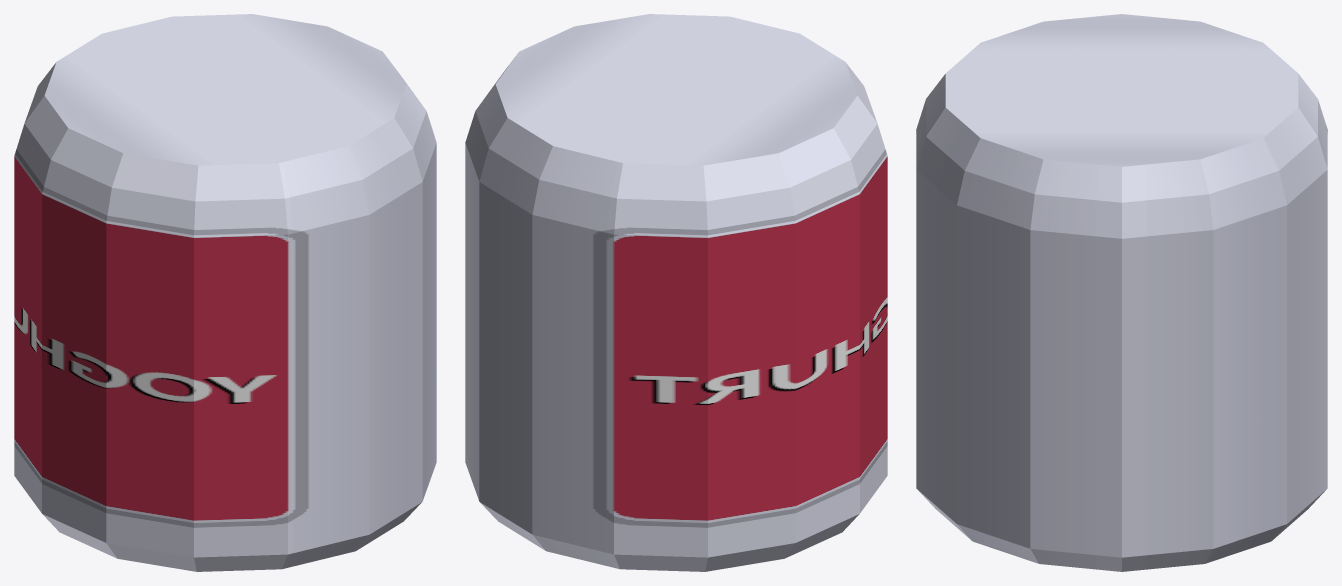
The model's file is fridge_yoghurt.obj.
3 renders of one model, left to right at view 1: azimuth 30°, elevation 25°; view 2: azimuth 150°, elevation 25°; view 3: azimuth 270°, elevation 25°, orthographic.
Parts seen in each view (by area): view 1: fridge_yoghurt; view 2: fridge_yoghurt; view 3: fridge_yoghurt.
Boxes of the visible parts, <box> form: fridge_yoghurt: <box>14,14,436,571</box>; fridge_yoghurt: <box>465,14,887,571</box>; fridge_yoghurt: <box>916,14,1327,571</box>.
Size of the model in its own units: 0.084 by 0.088 by 0.0819.
1 material, 1 textured.
